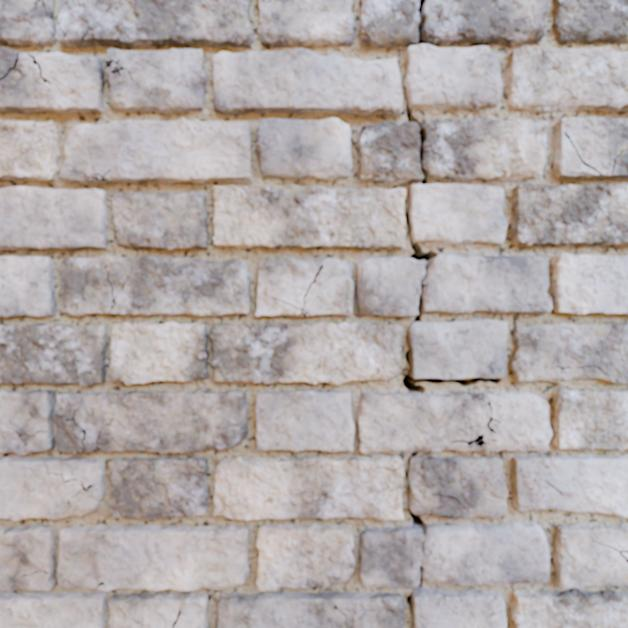broken_brick: (358, 522, 549, 588), (357, 391, 552, 454), (421, 118, 551, 181), (423, 254, 552, 314), (422, 0, 547, 47), (356, 257, 425, 316), (360, 120, 422, 185), (361, 0, 419, 48)
crack: (213, 0, 507, 393), (0, 0, 254, 114), (0, 524, 249, 627), (215, 523, 404, 627), (0, 389, 248, 455), (213, 48, 402, 116), (59, 118, 251, 184), (213, 456, 404, 521), (511, 523, 627, 627), (210, 322, 402, 384), (60, 255, 250, 316), (406, 451, 507, 535), (505, 45, 627, 112), (511, 183, 627, 246), (511, 322, 627, 384), (512, 455, 627, 517), (0, 186, 107, 250), (0, 323, 108, 386), (0, 457, 106, 520), (109, 456, 209, 520), (108, 322, 208, 385), (406, 565, 506, 627), (256, 389, 354, 451), (256, 118, 352, 180), (255, 257, 353, 316), (112, 191, 208, 249), (552, 389, 627, 451), (553, 117, 627, 179), (552, 253, 627, 314), (258, 0, 354, 47), (0, 120, 59, 182), (108, 592, 208, 627), (0, 256, 56, 317), (553, 0, 627, 44), (481, 395, 500, 433), (451, 434, 486, 447)
